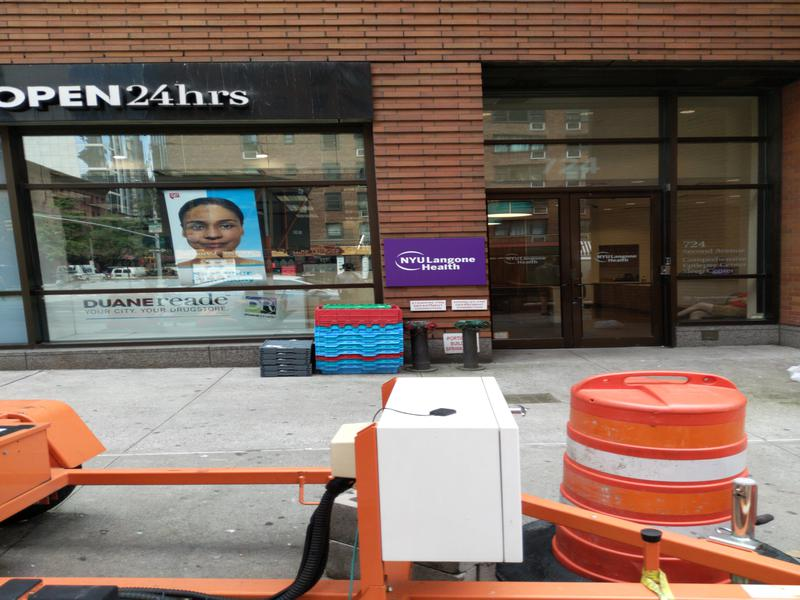double_door: (481, 182, 688, 355)
